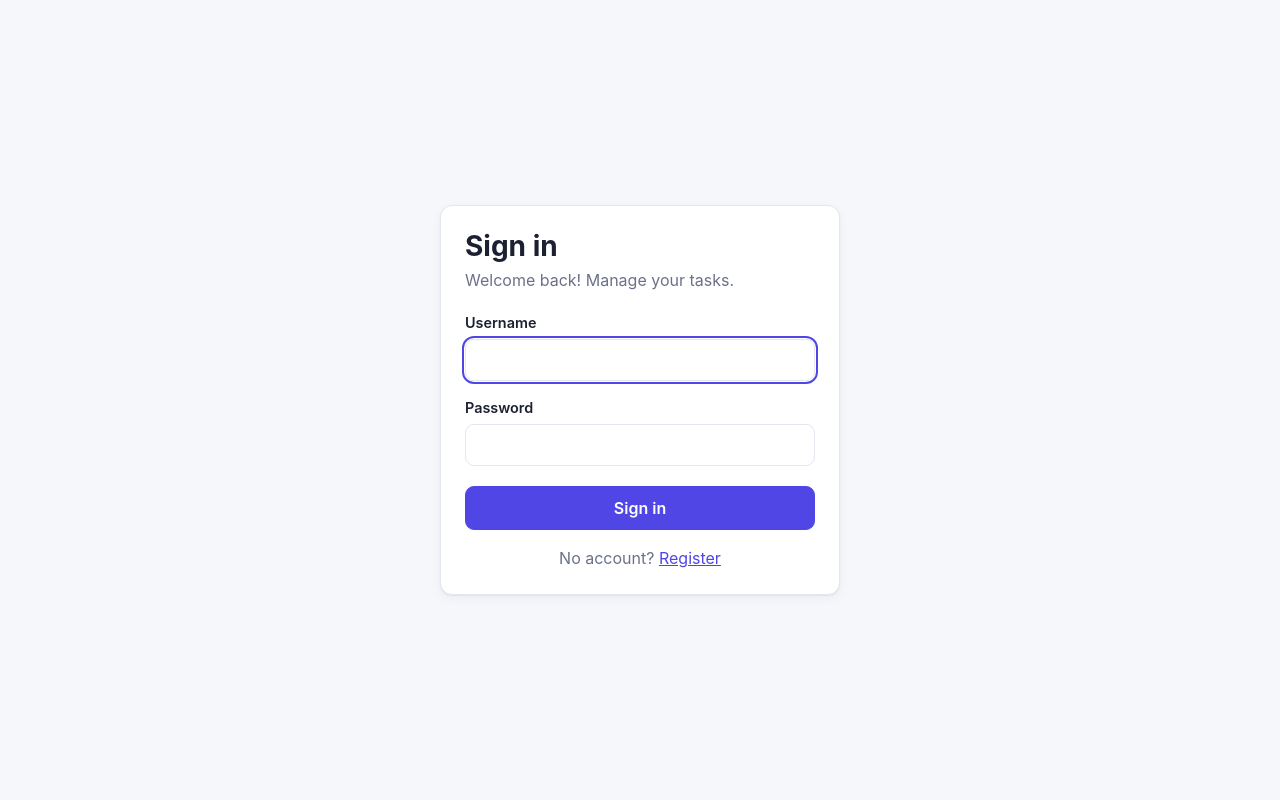
App › logs in and shows the task list
The image size is (1280, 800).
In the field labelled "Username": (640, 360) x1=465 y1=339 x2=815 y2=381, type "alice"
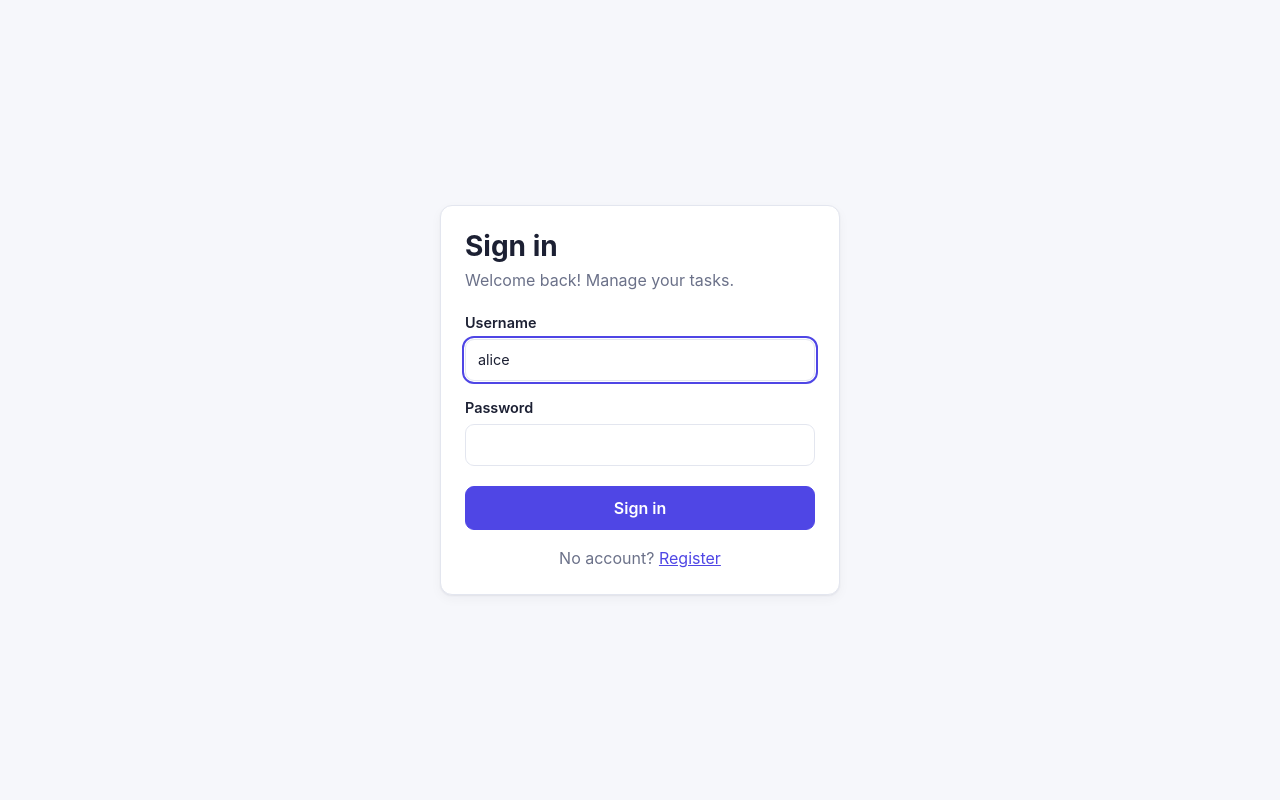
In the password field labelled "Password": (640, 445) x1=465 y1=424 x2=815 y2=466, type "S3cure-pass!"
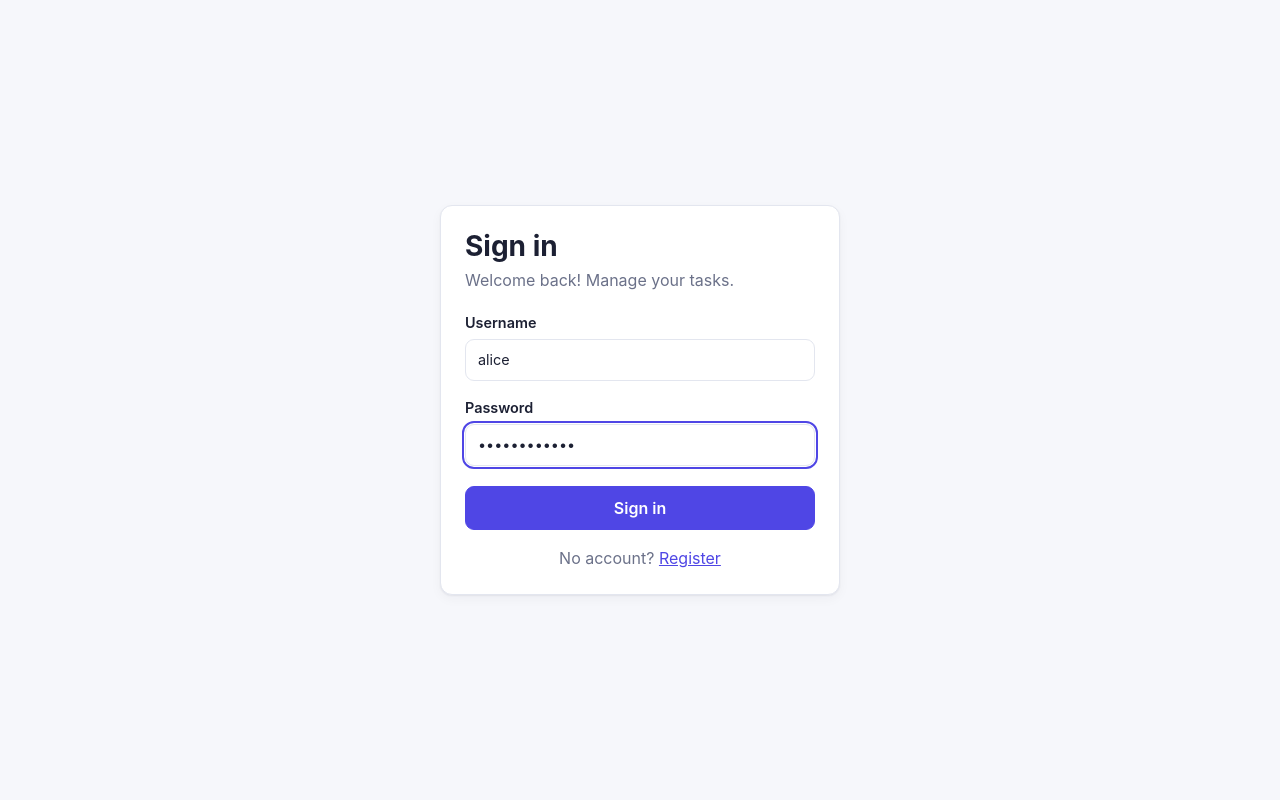
Click the button "Sign in": (640, 508) x1=465 y1=486 x2=815 y2=530
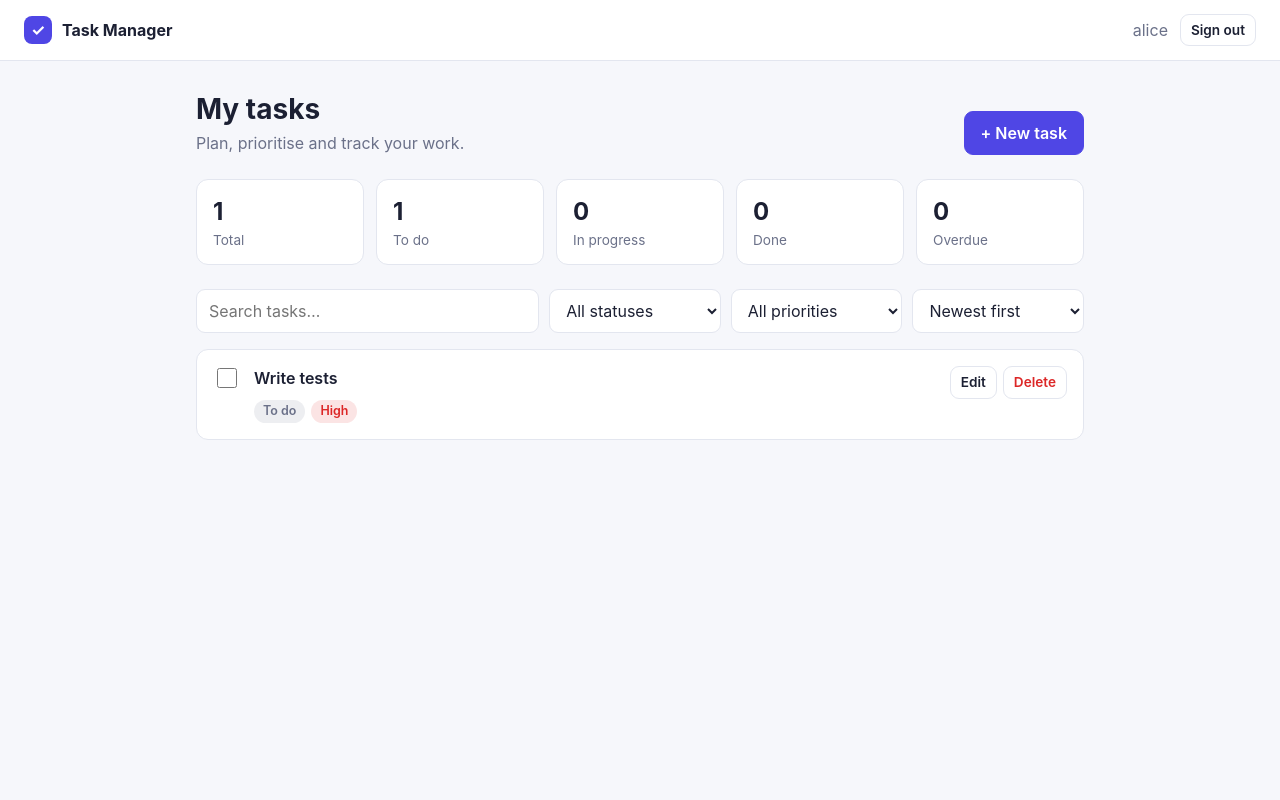
Check: the text "Write tests" is shown, box x1=254 y1=368 x2=338 y2=388
